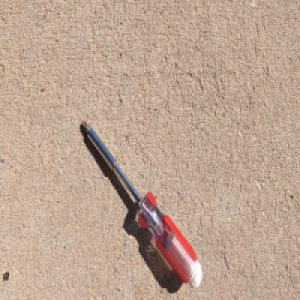Screwdriver: (80, 117, 203, 291)
